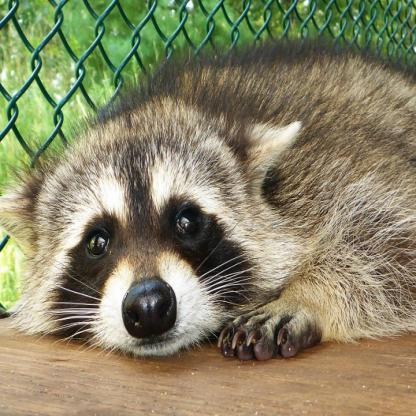raccoon: (2, 43, 416, 364)
